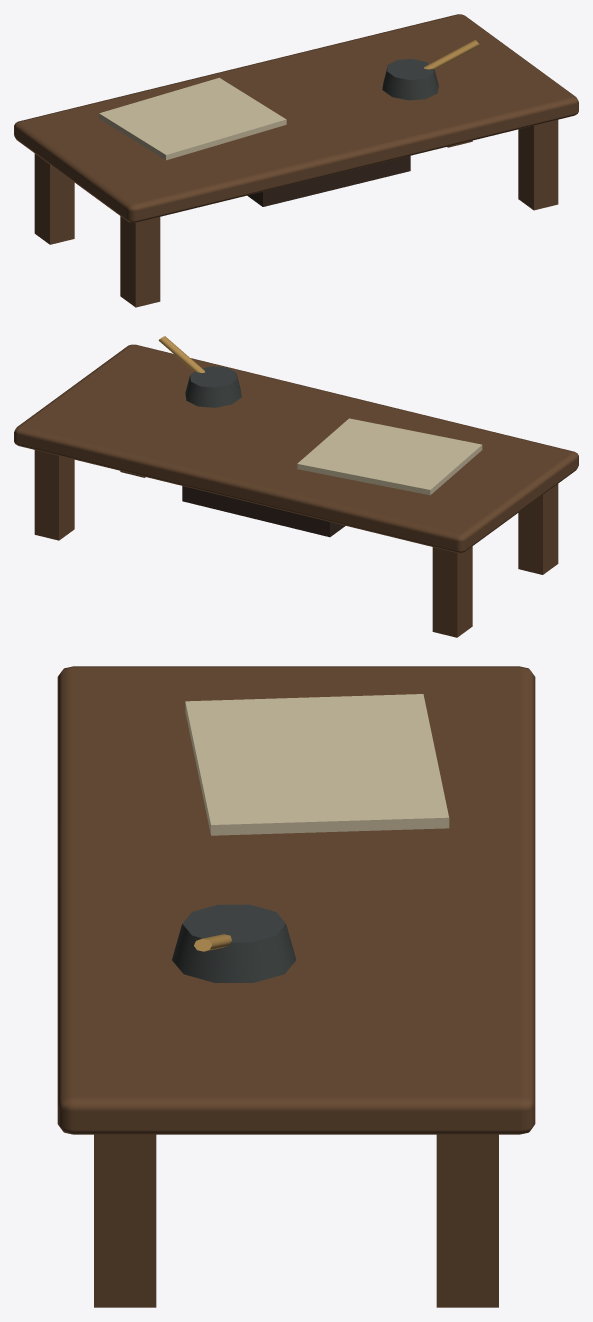
File: writing_desk.glb
3 renders of one model, top to bottom at view 1: azimuth 30°, elevation 25°; view 2: azimuth 150°, elevation 25°; view 3: azimuth 270°, elevation 25°, orthographic. The views are drawn at different scales.
Parts seen in each view (by area): view 1: writing_desk; view 2: writing_desk; view 3: writing_desk.
Boxes of the visible parts, <box> form: writing_desk: <box>14,14,578,307</box>; writing_desk: <box>14,336,578,637</box>; writing_desk: <box>57,666,535,1307</box>.
Bounding box in the file's own units: 2.4 × 0.8 × 1.1.
Materials: 1 (1 with a texture image).
